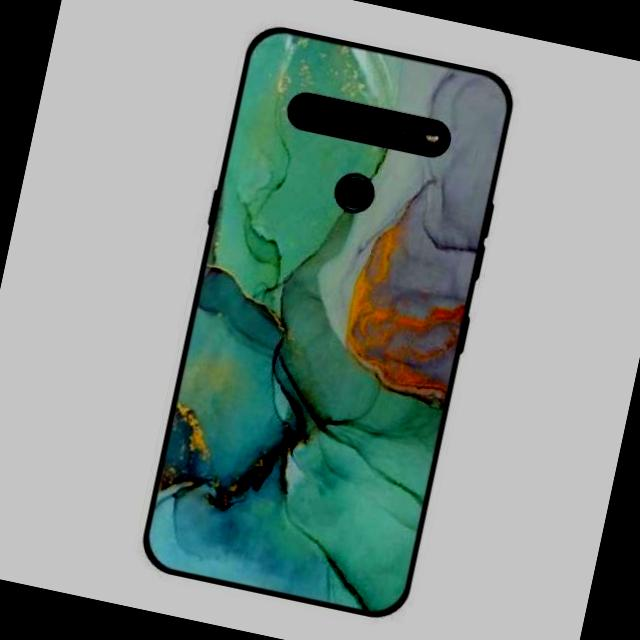lens_back: (286, 90, 324, 132), (352, 106, 386, 142), (384, 112, 418, 148), (321, 101, 355, 136)
phone: (131, 16, 524, 626)
